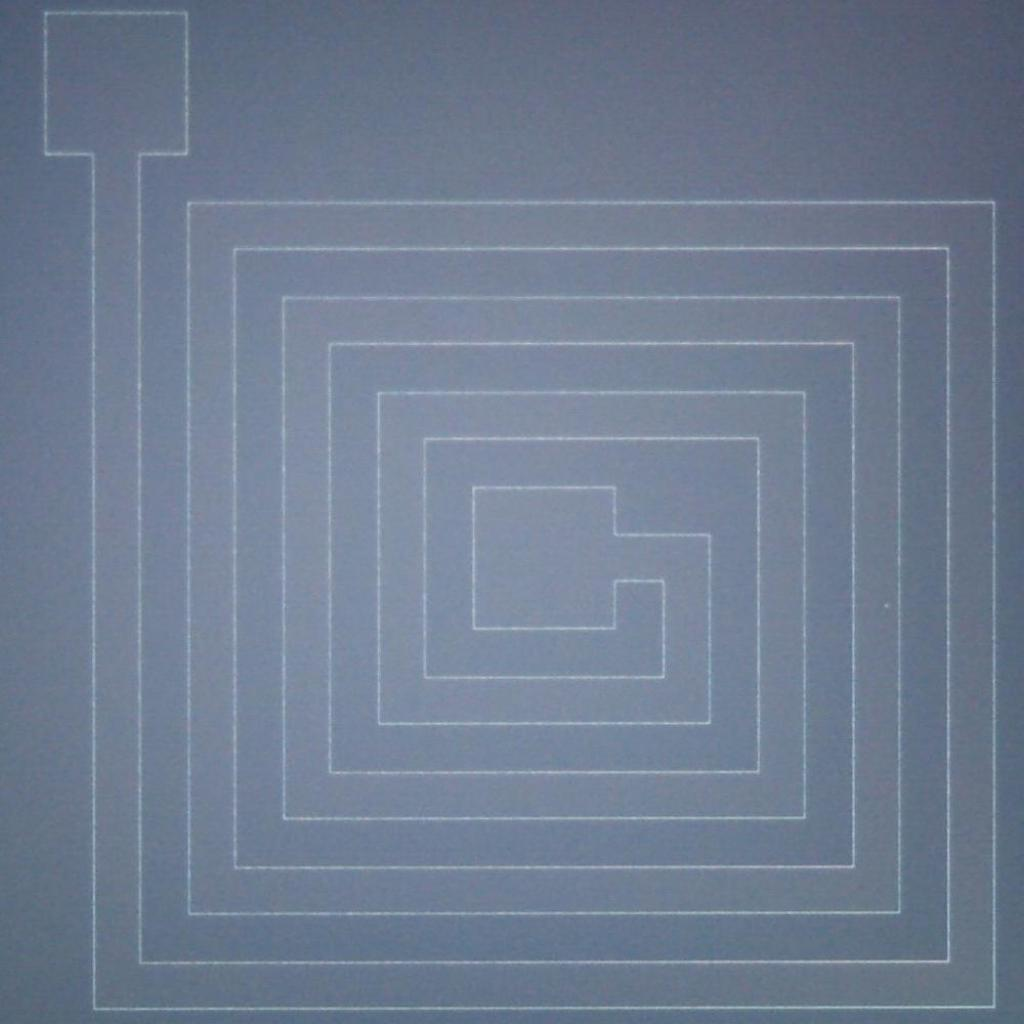dot: (884, 603, 888, 608)
